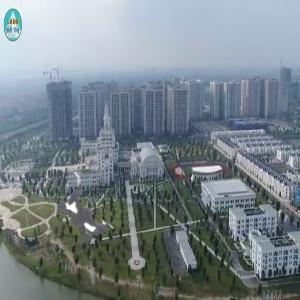drone: (19, 157, 148, 286)
